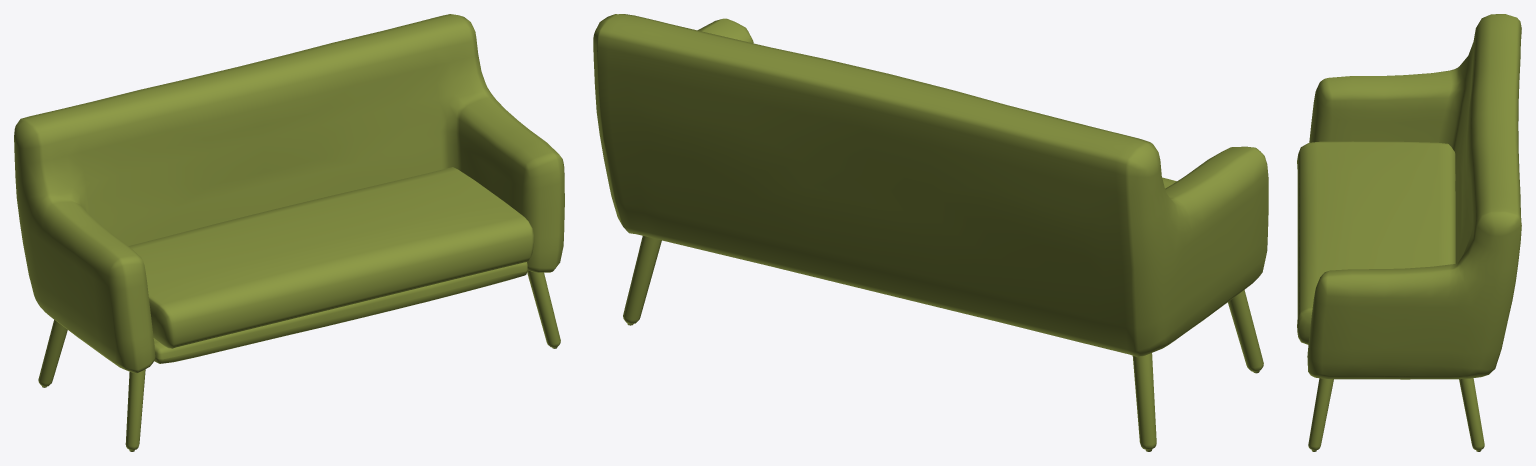
Rendered from futon sofa bed meridian green.glb.
3 renders of one model, left to right at view 1: azimuth 30°, elevation 25°; view 2: azimuth 150°, elevation 25°; view 3: azimuth 270°, elevation 25°, orthographic. The views are drawn at different scales.
Visible parts, largest first — view 1: NYC Couches; view 2: NYC Couches; view 3: NYC Couches.
Part boxes in pixels (x1,y1,x2,y2): NYC Couches: [14, 14, 564, 451]; NYC Couches: [593, 14, 1268, 451]; NYC Couches: [1297, 14, 1521, 451].
Bounding box in the file's own units: 1.32 × 0.7093 × 0.5961.
Materials: 1 (1 with a texture image).
